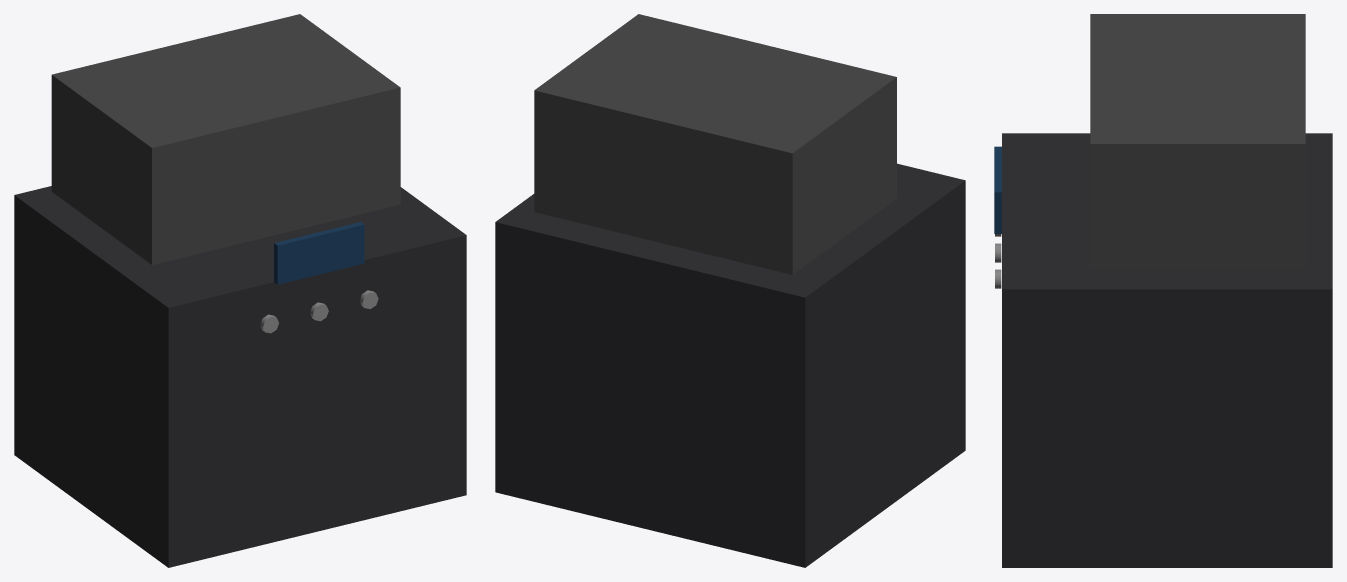
File: coffee-machine.glb
3 renders of one model, left to right at view 1: azimuth 30°, elevation 25°; view 2: azimuth 150°, elevation 25°; view 3: azimuth 270°, elevation 25°, orthographic. The views are drawn at different scales.
Size of the model in its own units: 0.48 by 0.59 by 0.44.
